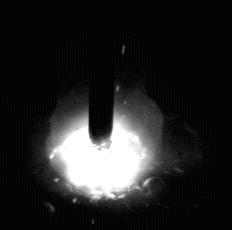arame: (89, 0, 114, 146)
poca: (47, 0, 158, 230)
